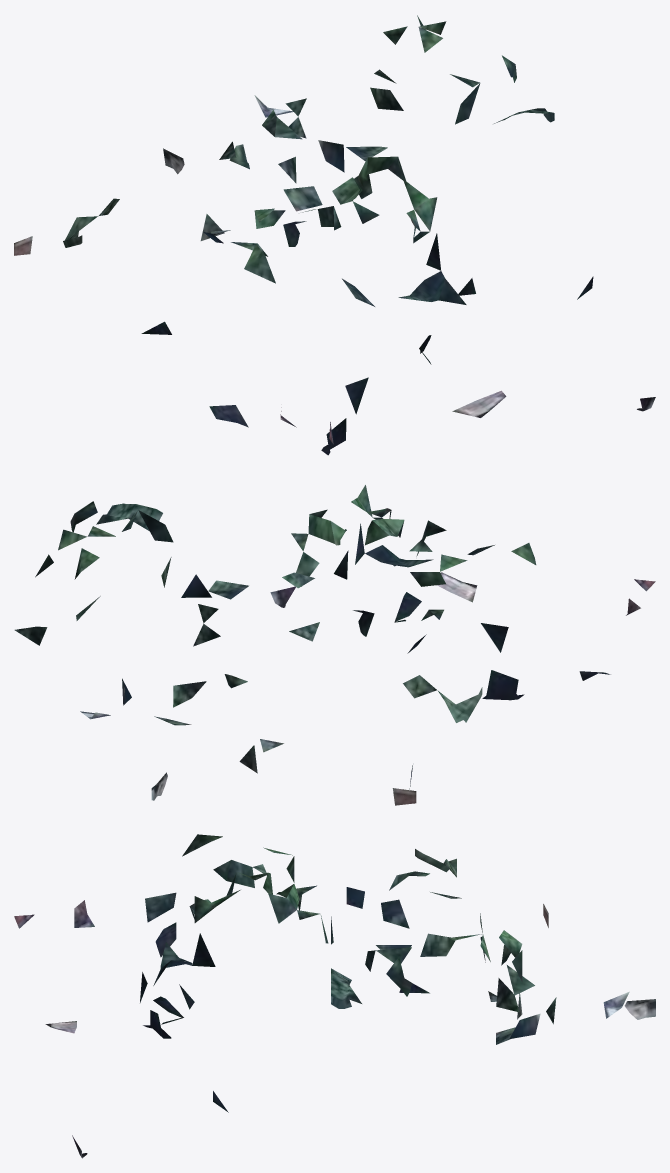
3 views of the same model, one above another, from view 1: azimuth 30°, elevation 25°; view 2: azimuth 150°, elevation 25°; view 3: azimuth 270°, elevation 25° (orthographic). The views are drawn at different scales.
Parts seen in each view (by area): view 1: 30436272704361416527_1; view 2: 30436272704361416527_1; view 3: 30436272704361416527_1.
Part boxes in pixels (x1,y1,x2,y2): 30436272704361416527_1: (14,15,655,455); 30436272704361416527_1: (14,485,655,805); 30436272704361416527_1: (14,834,655,1158).
Size of the model in its own units: 27.31 by 14.02 by 37.79.
1 material, 1 textured.
